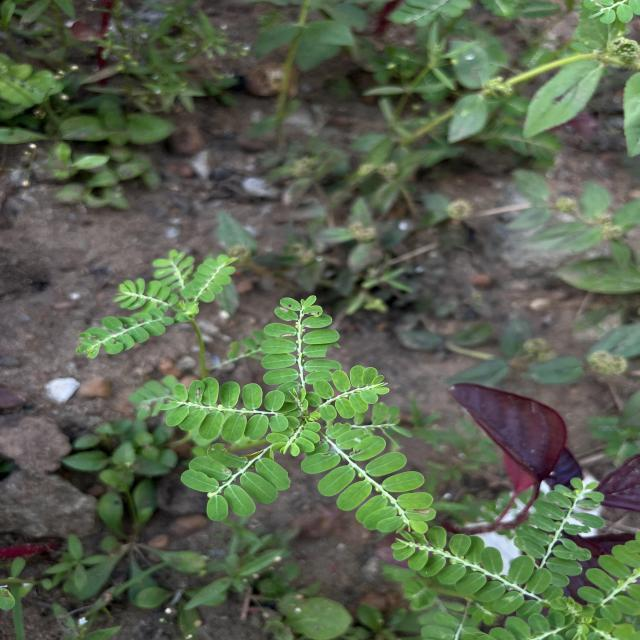Phyllanthus niruri: (388, 524, 564, 618), (306, 421, 442, 536), (155, 373, 303, 442), (508, 474, 596, 586), (175, 442, 294, 523), (258, 290, 346, 390), (308, 362, 392, 422)
